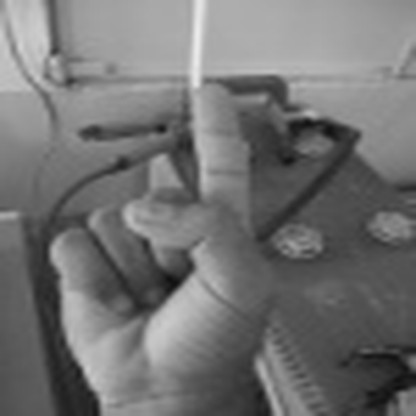d: (46, 78, 256, 416)
